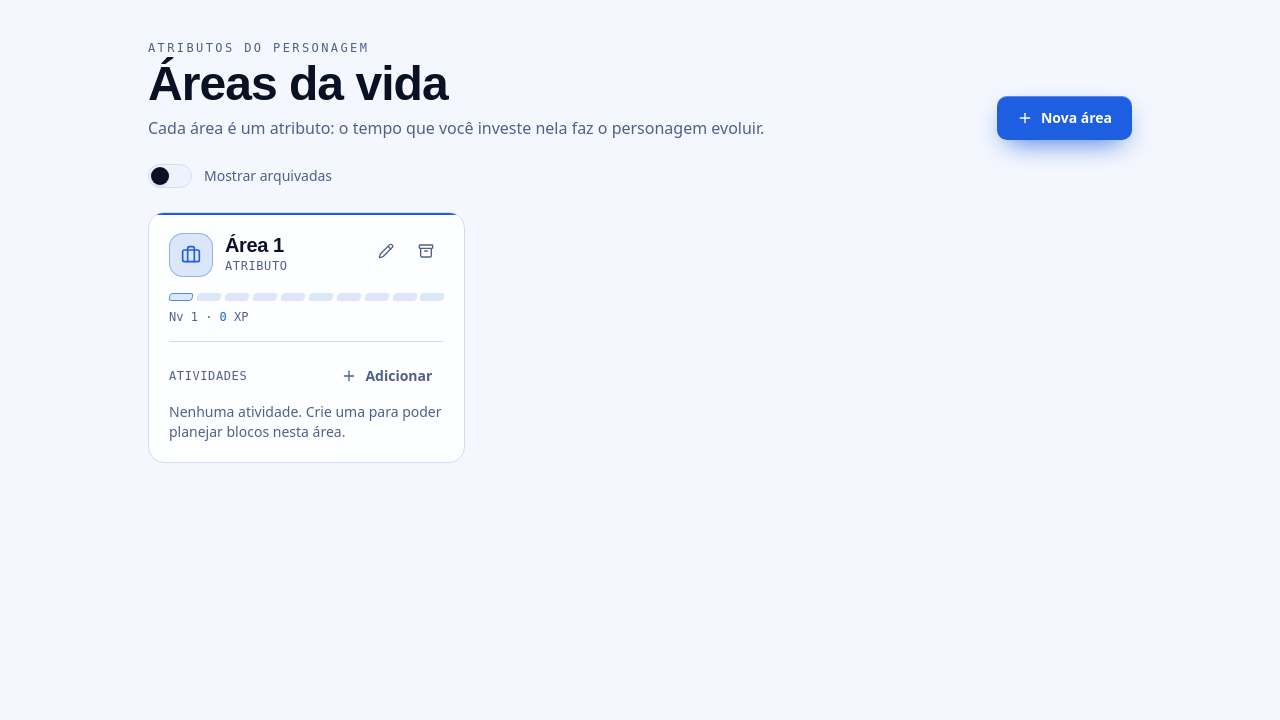
Test case: AreasPage › cria uma área nova e ela aparece na lista
Check: the element "Área 1" is shown, box [148,212,465,463]
Click the button "Nova área" at (1064, 118), box [997,96,1132,140]
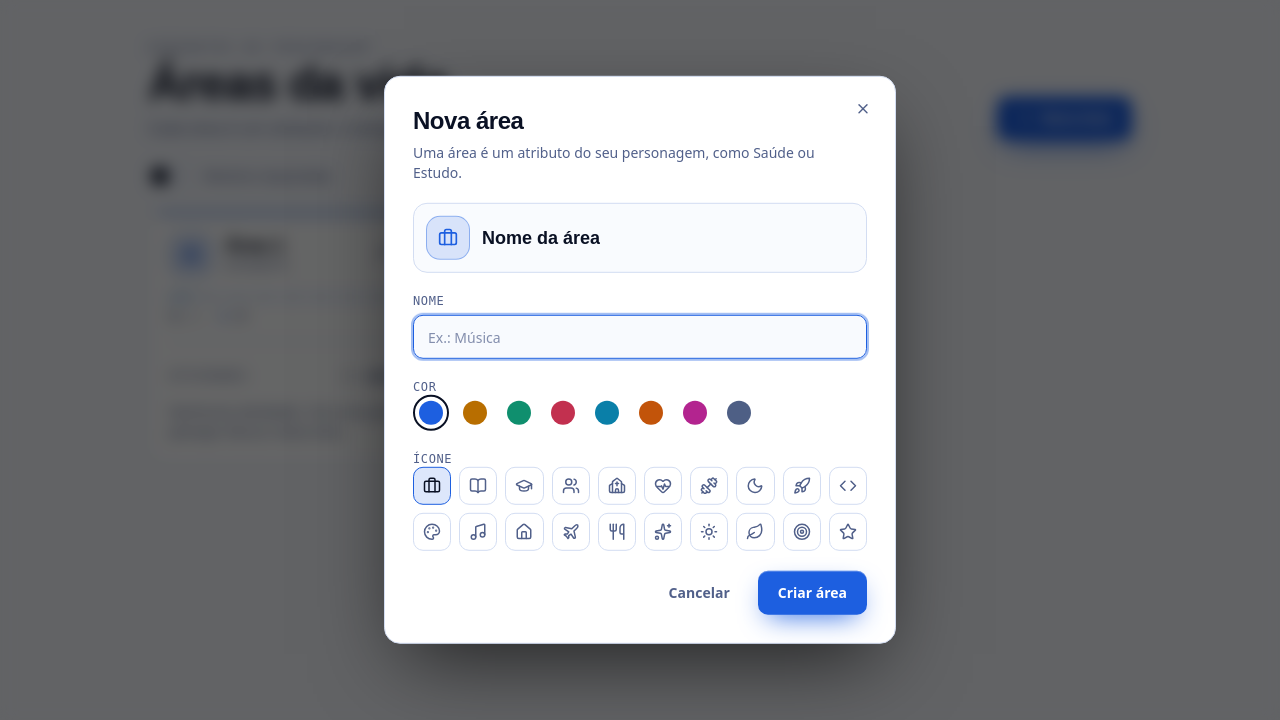
Type "Música" into the field labelled "Nome" at (640, 337), box [413,315,867,359]
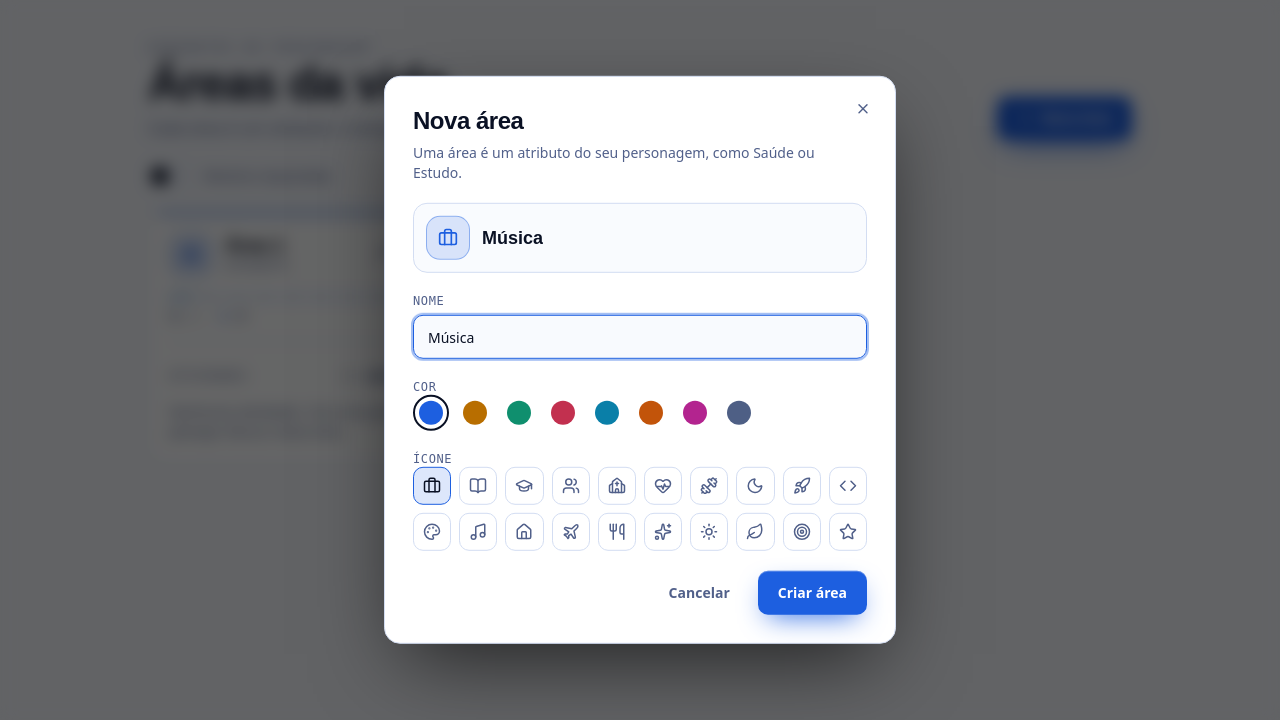
Click the radio button named "Rosa" at (695, 413), box [677,395,713,431]
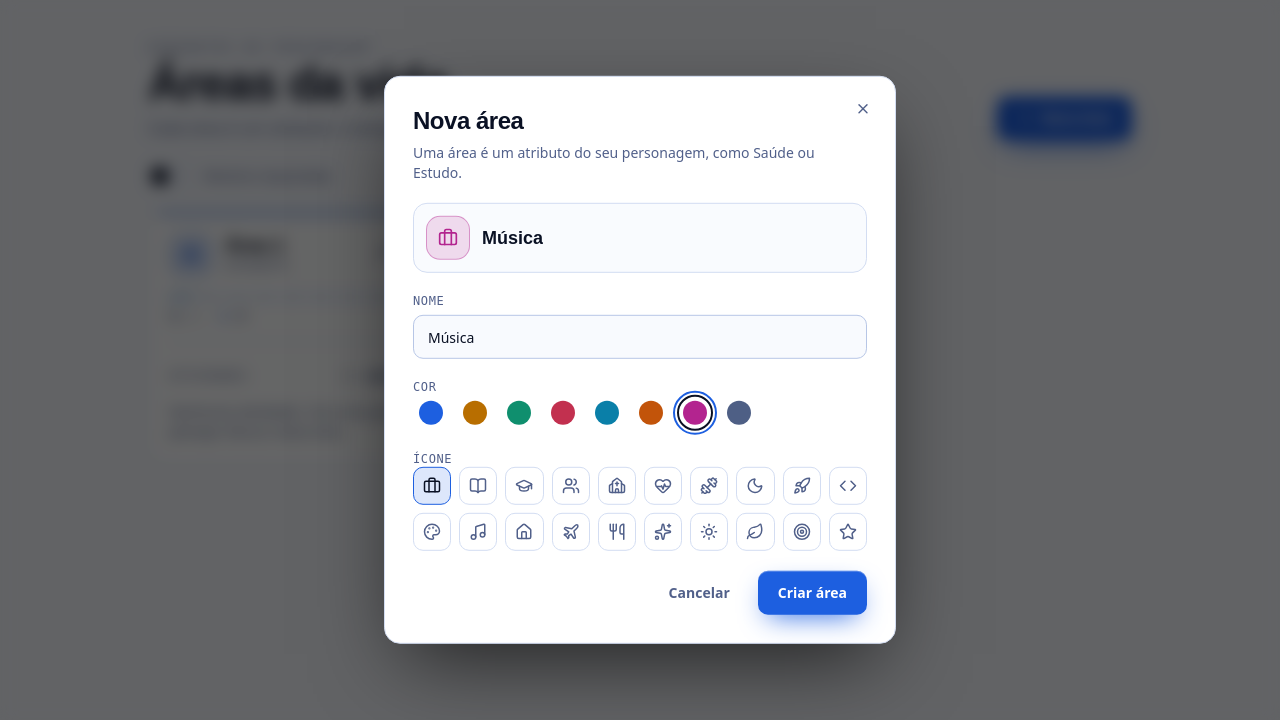
Click the radio button named "Música" at (478, 532), box [459,513,497,551]
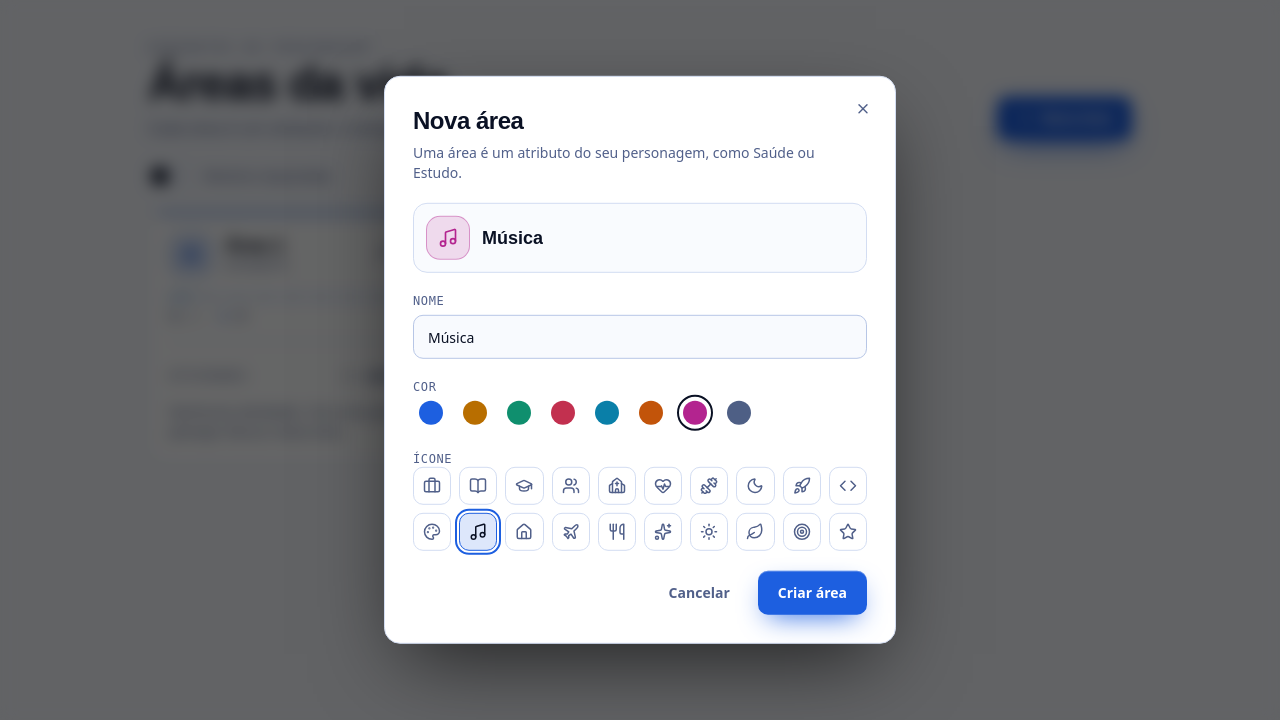
Click the button "Criar área" at (812, 593), box [758,571,867,615]
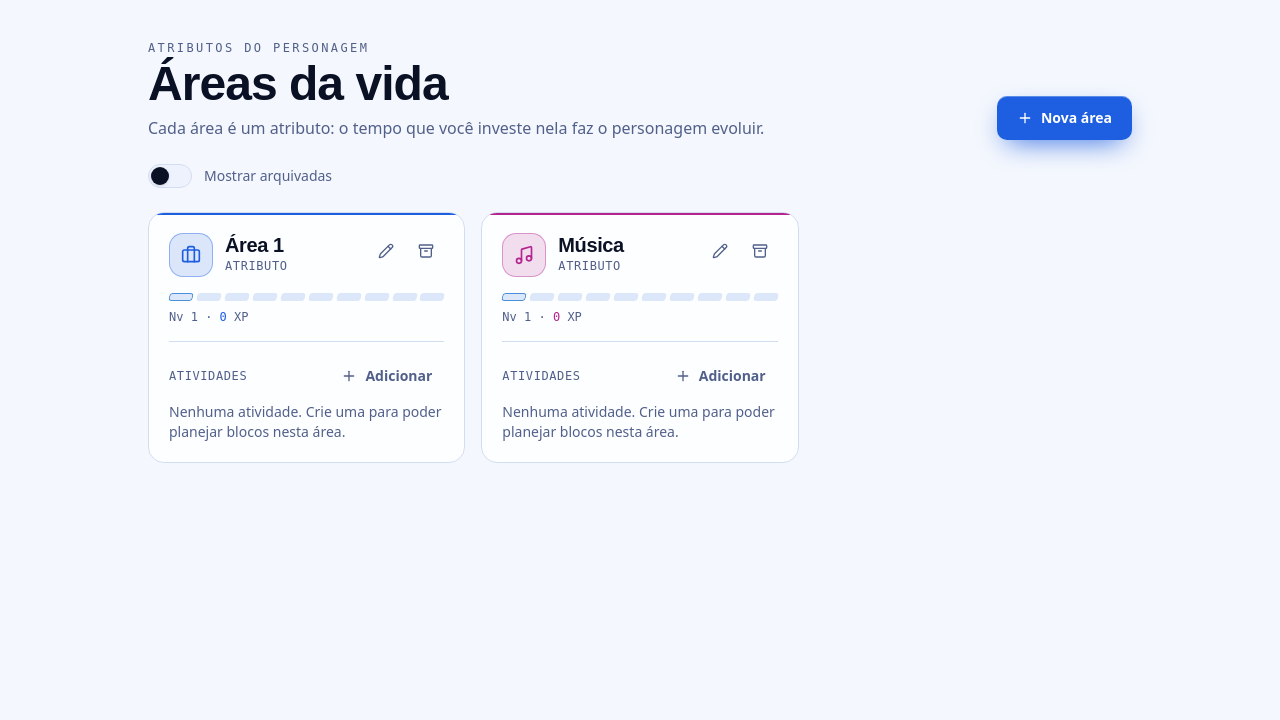
Check: the element "Música" is shown, box [481,212,799,463]
